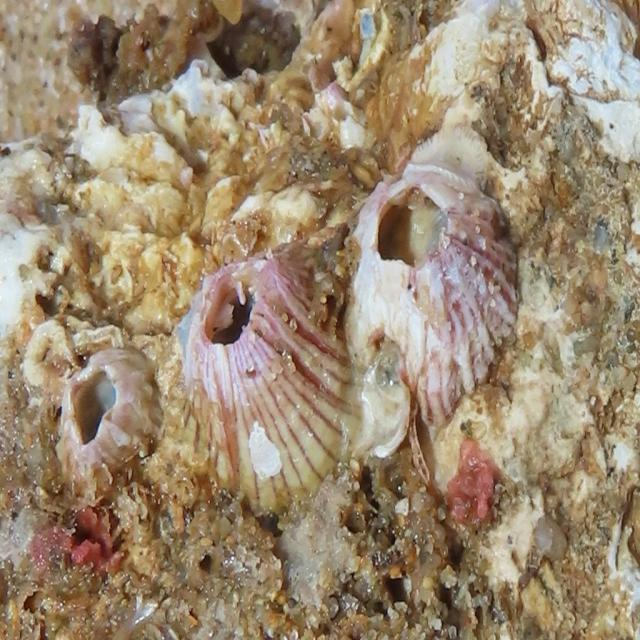barnacles: (345, 156, 533, 435), (179, 241, 330, 527), (56, 322, 149, 514)
